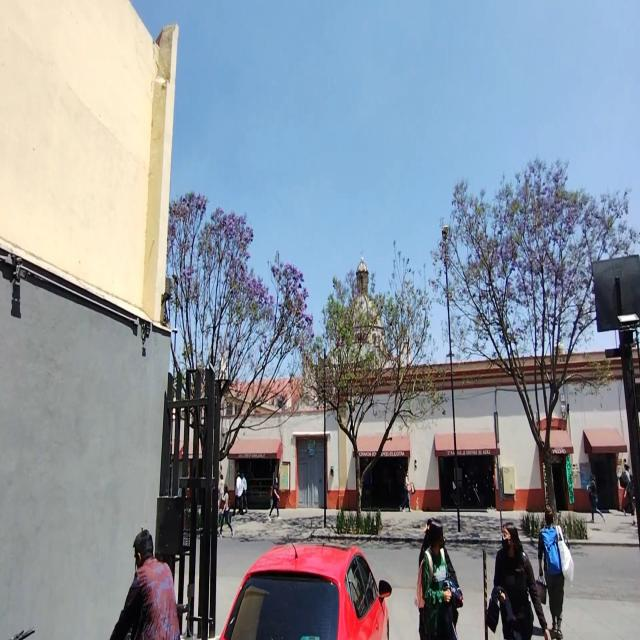adult: (114, 527, 180, 640), (493, 521, 552, 640), (422, 521, 457, 640), (538, 504, 568, 640)
